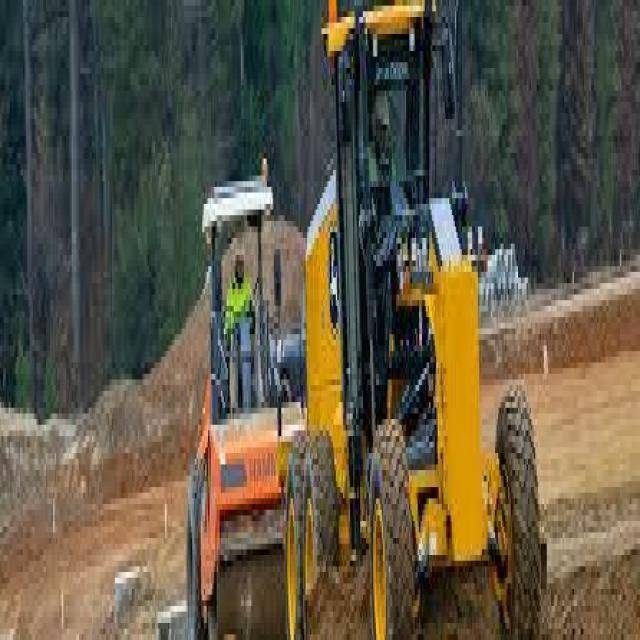Grader: (281, 0, 551, 629)
